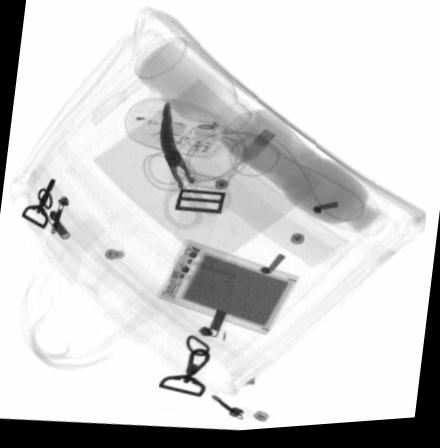Powerbank: (151, 241, 298, 341)
Scissors: (160, 97, 230, 235)
